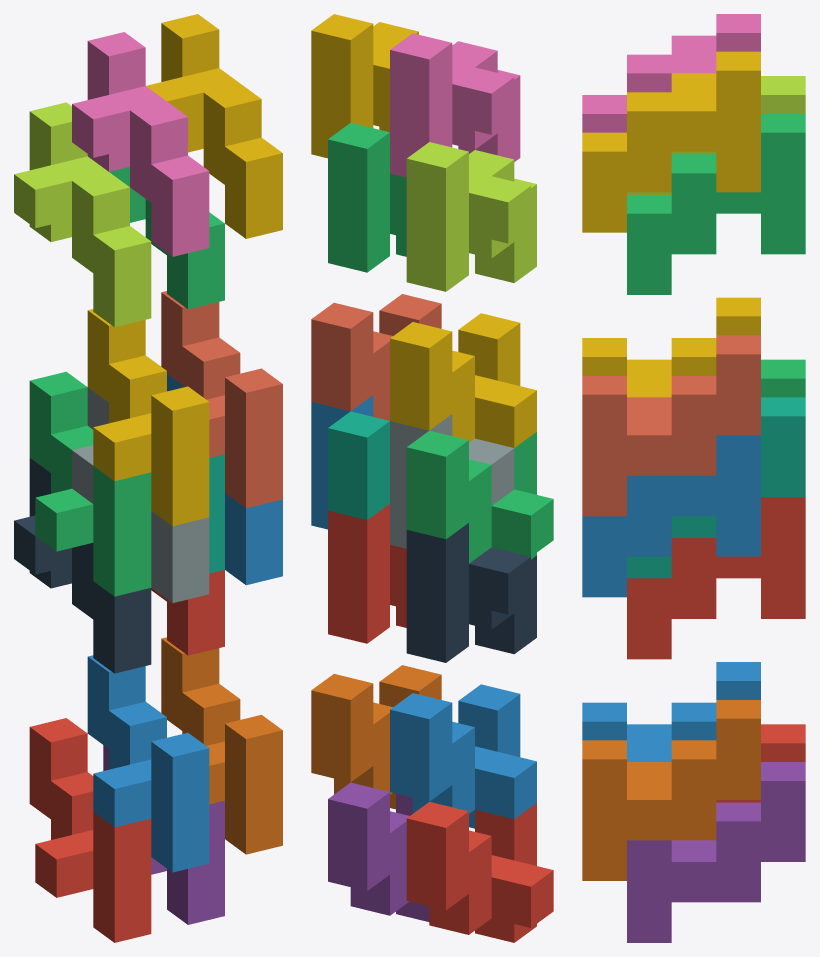
The model's file is tiling.obj.
3 views of the same model, side by side, from view 1: azimuth 30°, elevation 25°; view 2: azimuth 150°, elevation 25°; view 3: azimuth 270°, elevation 25° (orthographic). The views are drawn at different scales.
Parts seen in each view (by area): view 1: copy_1_domain_2, copy_1_domain_4, copy_2_domain_4, copy_1_domain_1, copy_2_domain_3, copy_1_domain_3, copy_2_domain_8, copy_1_domain_6, copy_1_domain_8, copy_2_domain_1, copy_2_domain_2, copy_2_domain_6 (+4 smaller); view 2: copy_2_domain_3, copy_1_domain_1, copy_1_domain_2, copy_1_domain_4, copy_2_domain_1, copy_2_domain_4, copy_1_domain_3, copy_2_domain_7, copy_1_domain_6, copy_1_domain_5, copy_2_domain_8, copy_1_domain_8 (+4 smaller); view 3: copy_2_domain_8, copy_1_domain_6, copy_1_domain_8, copy_1_domain_5, copy_2_domain_7, copy_2_domain_6, copy_2_domain_5, copy_1_domain_4, copy_1_domain_2, copy_2_domain_4, copy_1_domain_7, copy_2_domain_3 (+2 smaller).
Part boxes in pixels (box(x1,y1,x2,y2)): copy_1_domain_2: box(87, 655, 209, 872); copy_1_domain_4: box(87, 309, 209, 526); copy_2_domain_4: box(72, 32, 209, 256); copy_1_domain_1: box(29, 718, 151, 942); copy_2_domain_3: box(14, 102, 151, 327); copy_1_domain_3: box(29, 371, 151, 596); copy_2_domain_8: box(146, 14, 282, 238); copy_1_domain_6: box(161, 637, 282, 854); copy_1_domain_8: box(161, 291, 282, 508); copy_2_domain_1: box(14, 458, 151, 673); copy_2_domain_2: box(72, 387, 209, 603); copy_2_domain_6: box(167, 374, 282, 585); copy_2_domain_3: box(406, 142, 536, 291); copy_1_domain_1: box(406, 802, 553, 942); copy_1_domain_2: box(390, 684, 536, 828); copy_1_domain_4: box(390, 313, 536, 447); copy_2_domain_1: box(406, 523, 536, 662); copy_2_domain_4: box(390, 33, 520, 177); copy_1_domain_3: box(406, 430, 553, 563); copy_2_domain_7: box(328, 123, 406, 272); copy_1_domain_6: box(311, 665, 441, 809); copy_1_domain_5: box(328, 782, 429, 921); copy_2_domain_8: box(311, 14, 418, 158); copy_1_domain_8: box(311, 294, 441, 420); copy_2_domain_8: box(582, 51, 760, 232); copy_1_domain_6: box(582, 700, 760, 880); copy_1_domain_8: box(582, 335, 760, 516); copy_1_domain_5: box(627, 762, 805, 942); copy_2_domain_7: box(627, 114, 805, 294); copy_2_domain_6: box(582, 435, 760, 597); copy_2_domain_5: box(627, 497, 805, 659); copy_1_domain_4: box(582, 297, 760, 397); copy_1_domain_2: box(582, 662, 760, 761); copy_2_domain_4: box(582, 14, 760, 132); copy_1_domain_7: box(627, 397, 805, 578); copy_2_domain_3: box(627, 76, 805, 194).
Bounding box in the file's own units: 5 × 22 × 5.
